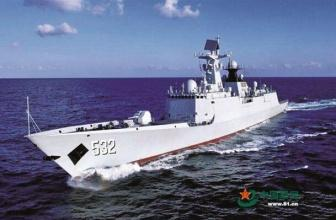warship: (28, 32, 288, 172)
